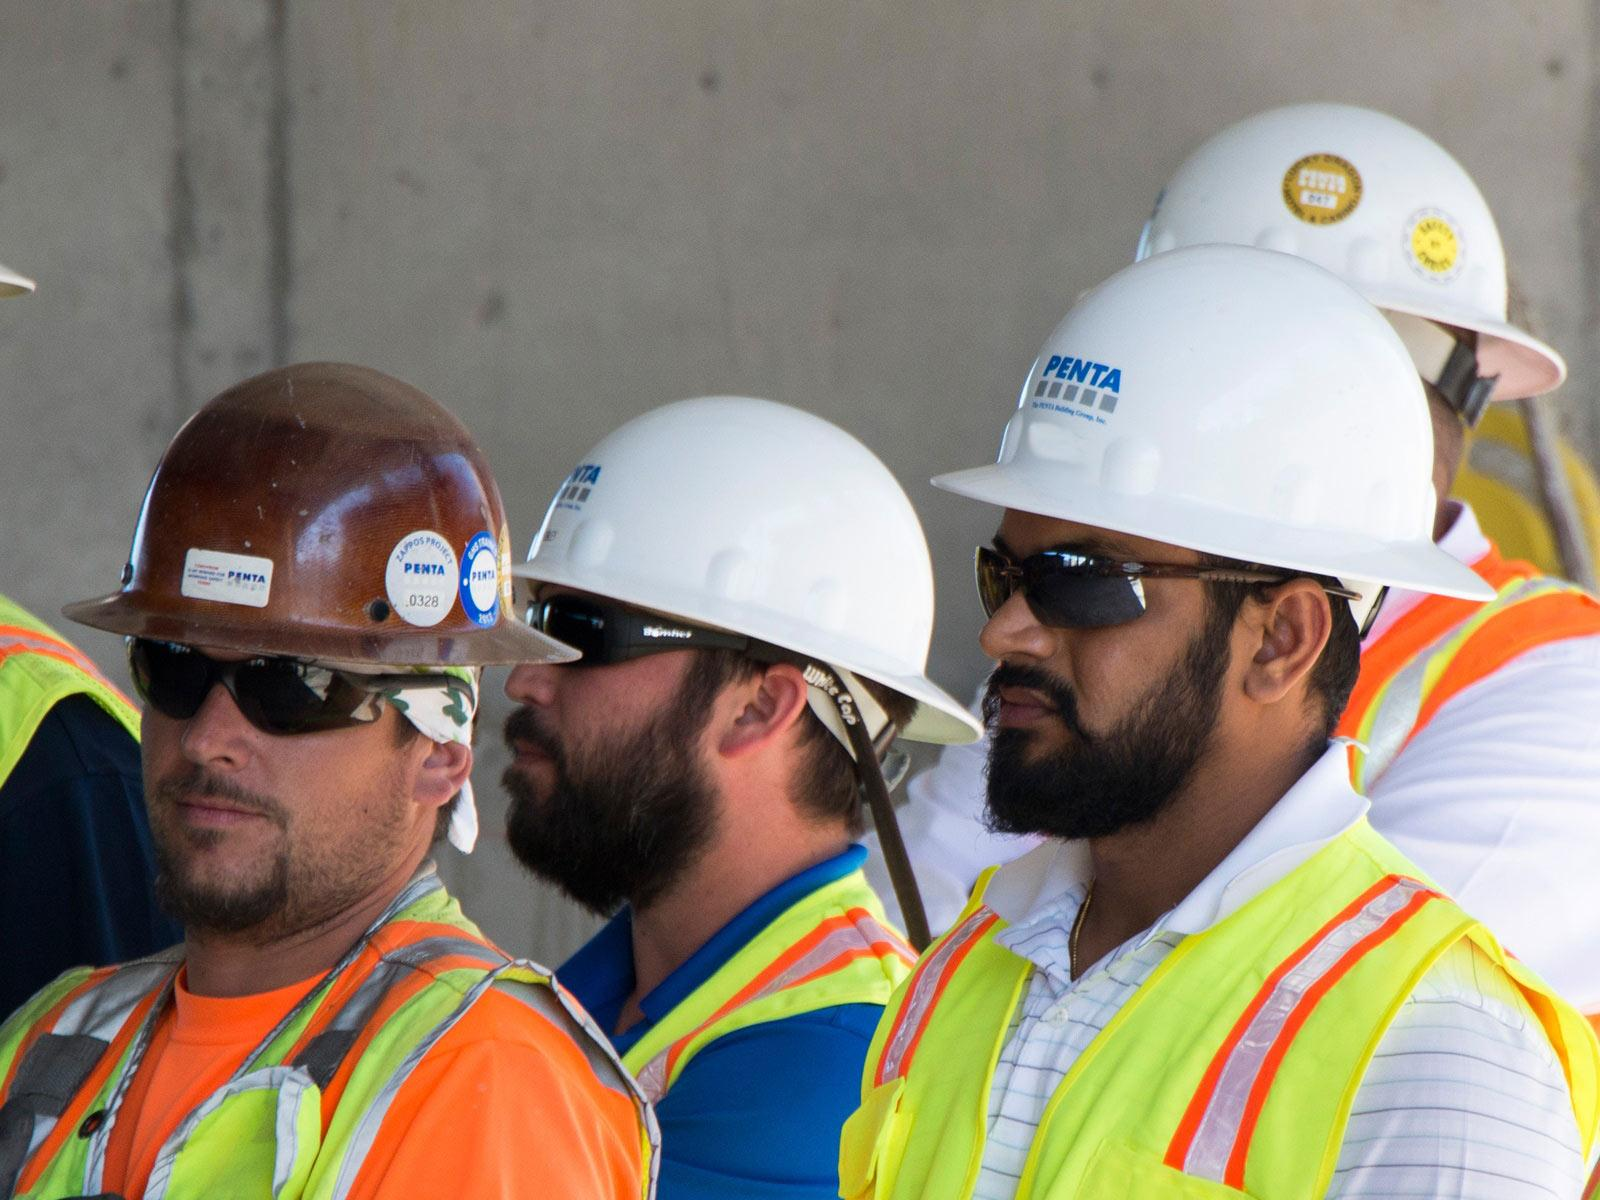helmet: (952, 251, 1483, 608), (96, 364, 583, 684), (513, 398, 971, 724), (1109, 101, 1563, 332)
